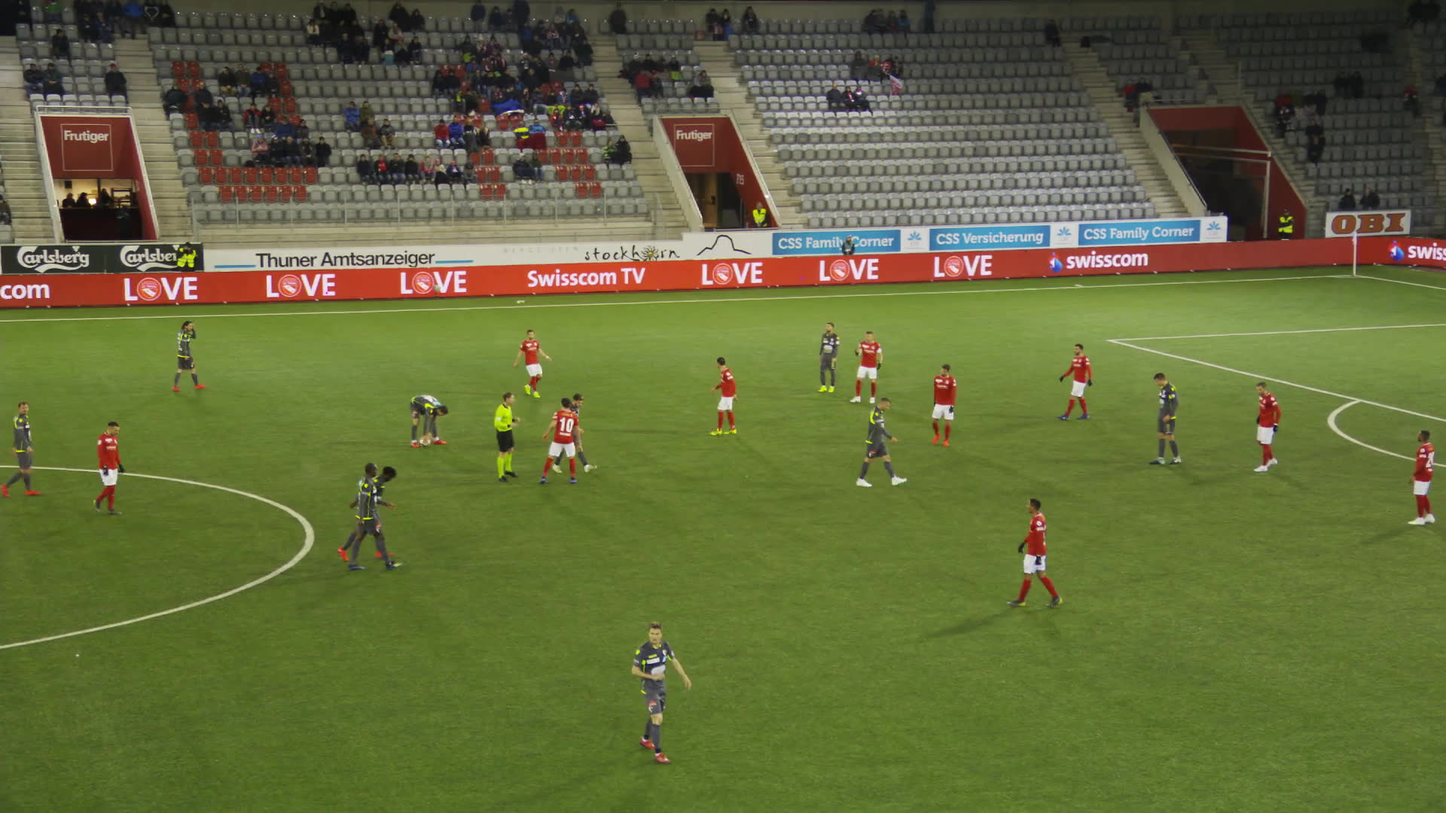ball: (419, 436, 429, 445)
player: (631, 620, 691, 761), (1013, 496, 1059, 607), (344, 467, 394, 560), (0, 400, 45, 497), (86, 422, 127, 516), (355, 461, 389, 569), (862, 396, 899, 486), (541, 398, 579, 484), (1148, 371, 1180, 464), (557, 391, 590, 473), (1407, 430, 1435, 524), (512, 330, 551, 397), (1059, 343, 1093, 419), (847, 331, 880, 402), (709, 357, 738, 437), (928, 364, 956, 446), (1254, 382, 1280, 470), (409, 394, 447, 446), (175, 320, 203, 390), (816, 321, 838, 391)
referee: (493, 393, 519, 481)
